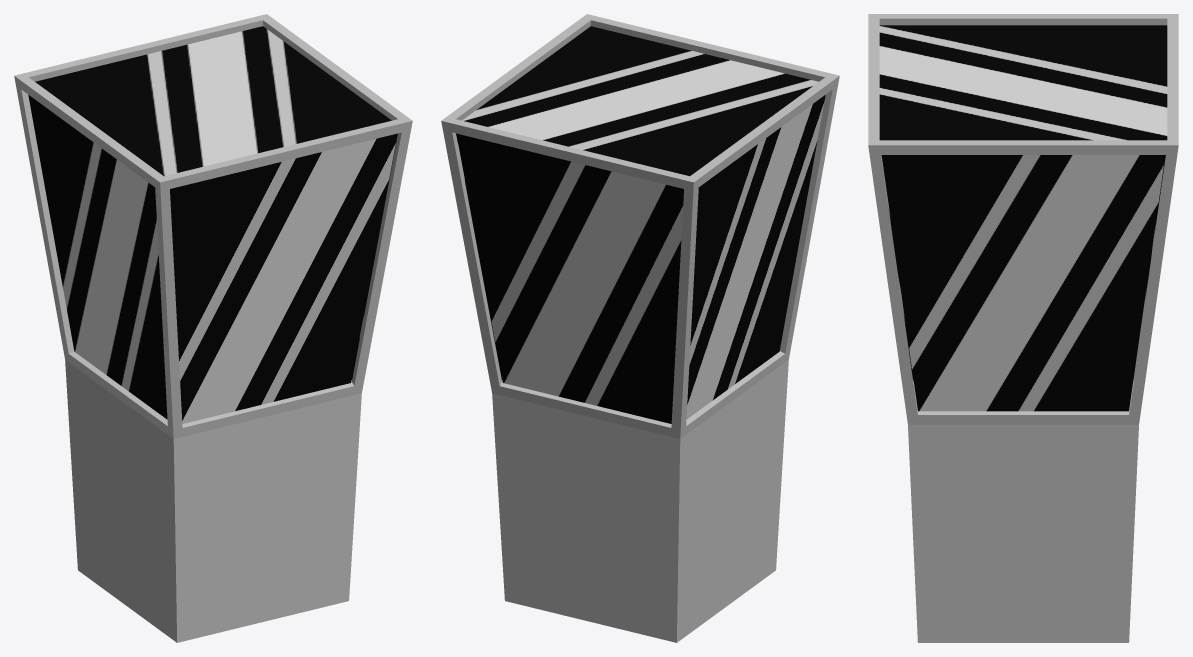
The model's file is showcase01.fbx.
3 renders of one model, left to right at view 1: azimuth 30°, elevation 25°; view 2: azimuth 150°, elevation 25°; view 3: azimuth 270°, elevation 25°, orthographic. The views are drawn at different scales.
Parts seen in each view (by area): view 1: showcase01; view 2: showcase01; view 3: showcase01.
Part boxes in pixels (bbox=[...]): showcase01: bbox=[14, 14, 412, 642]; showcase01: bbox=[441, 14, 839, 642]; showcase01: bbox=[868, 14, 1178, 642].
Bounding box in the file's own units: 103 × 189 × 103.
